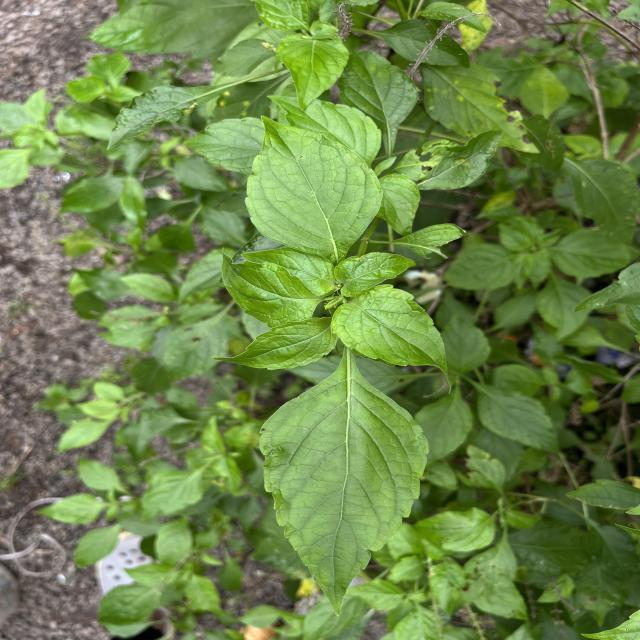Ocimum gratissimum: (255, 362, 435, 619), (242, 112, 388, 260), (326, 284, 464, 399), (210, 245, 322, 332)
